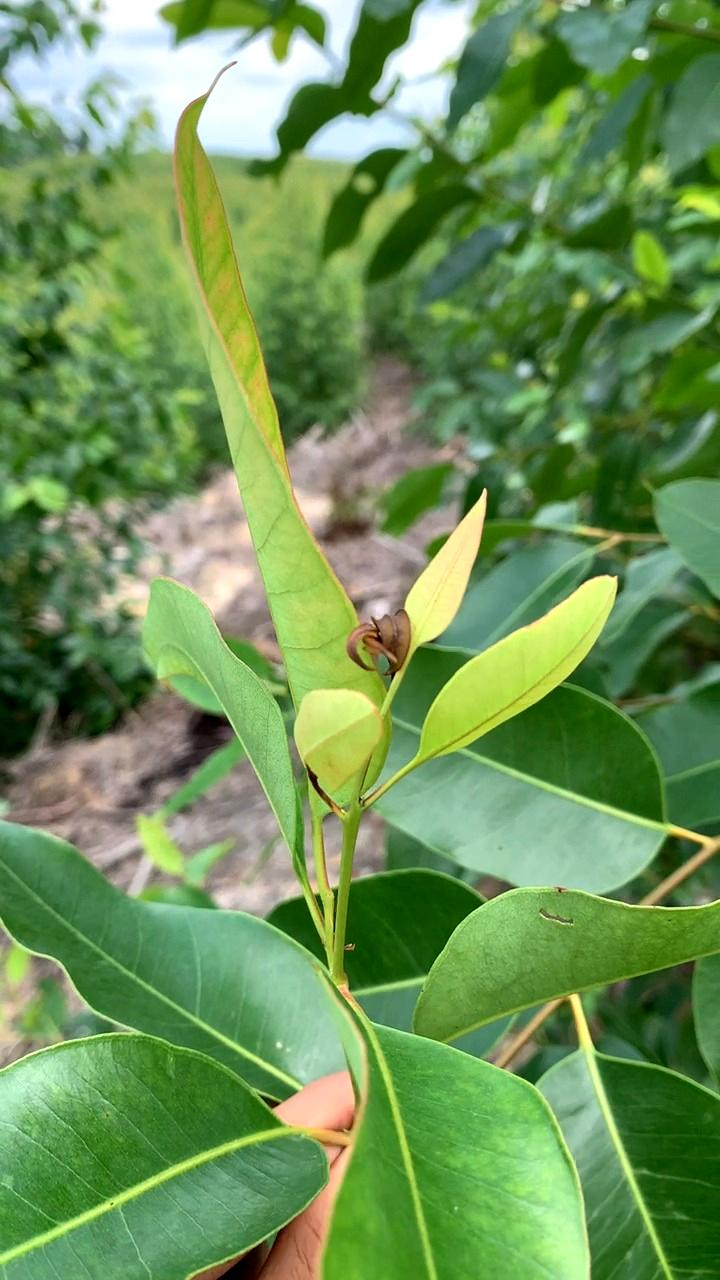Helopeltis-Withered Sprout: (343, 603, 419, 691)
